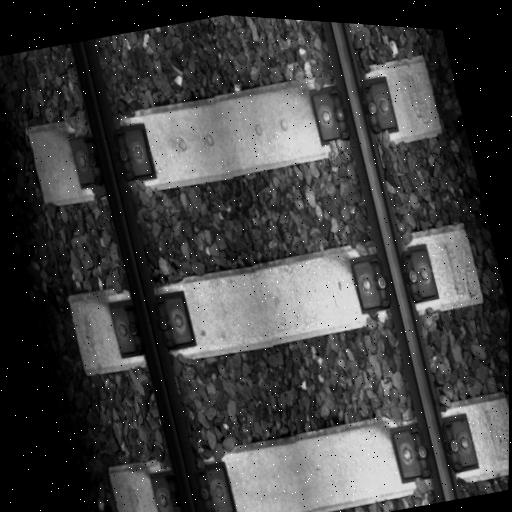sleeper: (23, 29, 443, 238), (65, 198, 486, 405), (105, 365, 509, 512)
